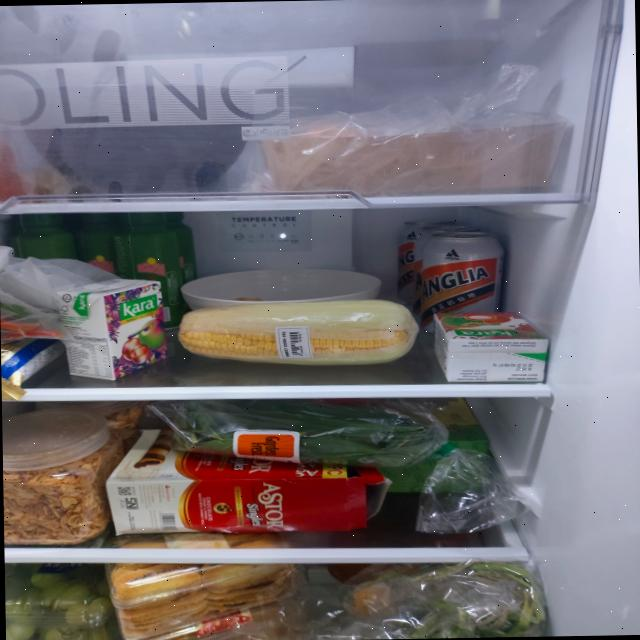chili: (0, 296, 63, 342)
coconut_milk: (55, 276, 169, 381), (431, 310, 550, 384)
corn: (176, 298, 420, 368)
grape: (4, 564, 122, 640)
leafy_greens: (172, 396, 438, 472)
